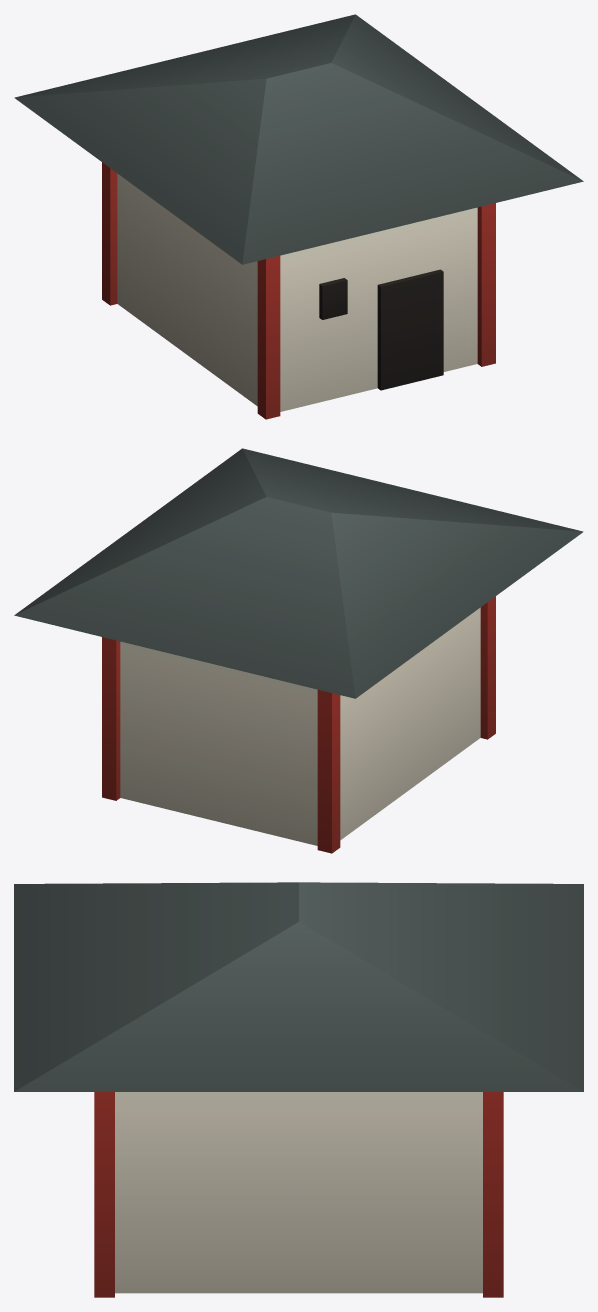
The model's file is house_EA_3a.glb.
The picture shows the model from 3 angles, top to bottom: view 1: azimuth 30°, elevation 25°; view 2: azimuth 150°, elevation 25°; view 3: azimuth 270°, elevation 25°; orthographic projection. The views are drawn at different scales.
Visible parts, largest first — view 1: Body; view 2: Body; view 3: Body.
Boxes of the visible parts, bbox=[...] form: Body: bbox=[14, 14, 583, 419]; Body: bbox=[14, 448, 583, 853]; Body: bbox=[14, 882, 583, 1297].
Bounding box in the file's own units: 1.9 × 1.39 × 2.2.
Materials: 1 (1 with a texture image).
